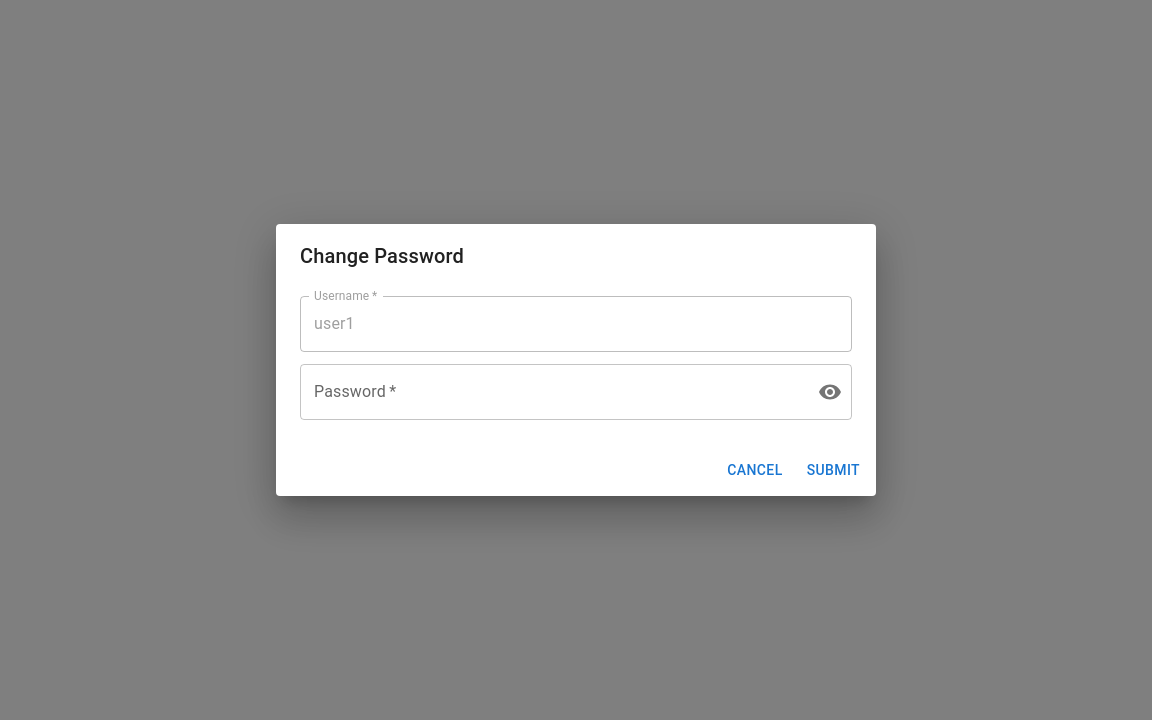
userDialogue › change password › displays error when no password is supplied
Click the button "Submit": {"x": 833, "y": 470} [799,452,868,488]
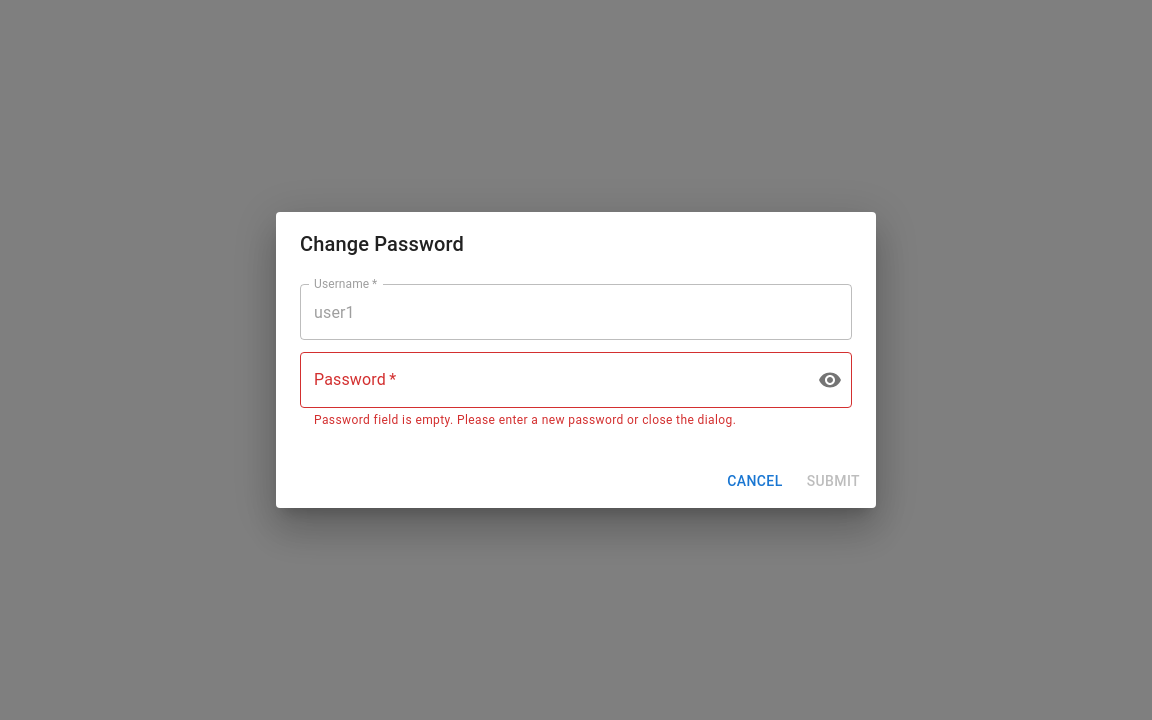
Check: the text "Password field is empty. Please enter a new password or close the dialog." is shown, box [314,413,736,427]
